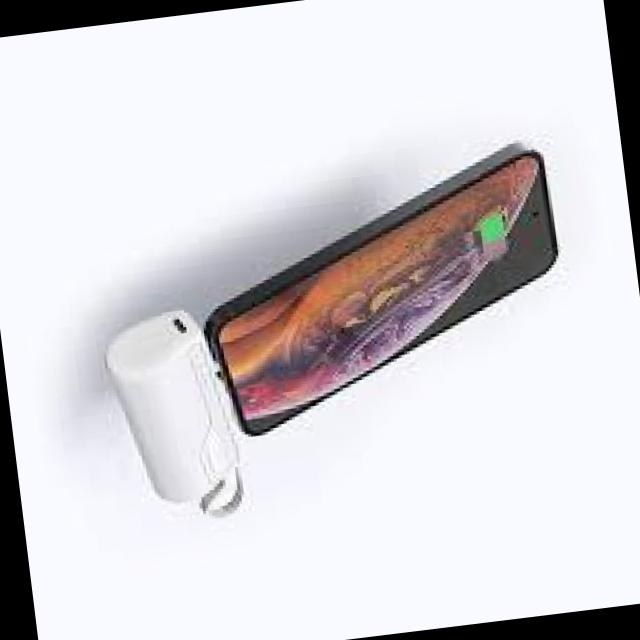portable-charger: (94, 298, 244, 518)
